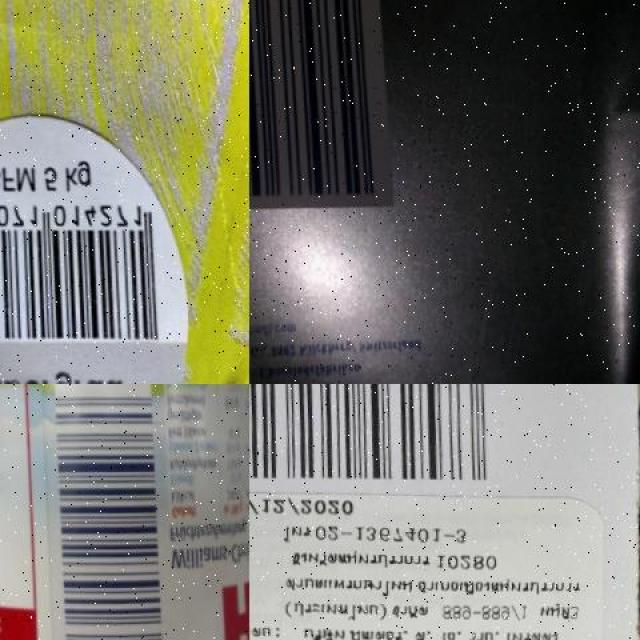Barcode: (36, 384, 165, 640), (249, 0, 390, 213), (250, 384, 506, 487), (0, 196, 163, 345)
